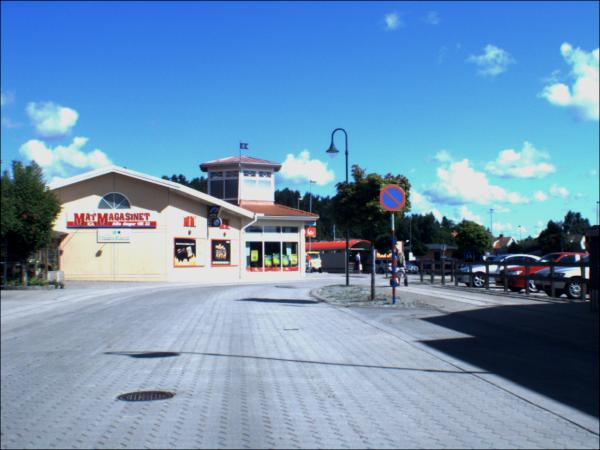NO_PARKING: (381, 186, 407, 214)
PEDESTRIAN_CROSSING: (466, 251, 475, 264)
